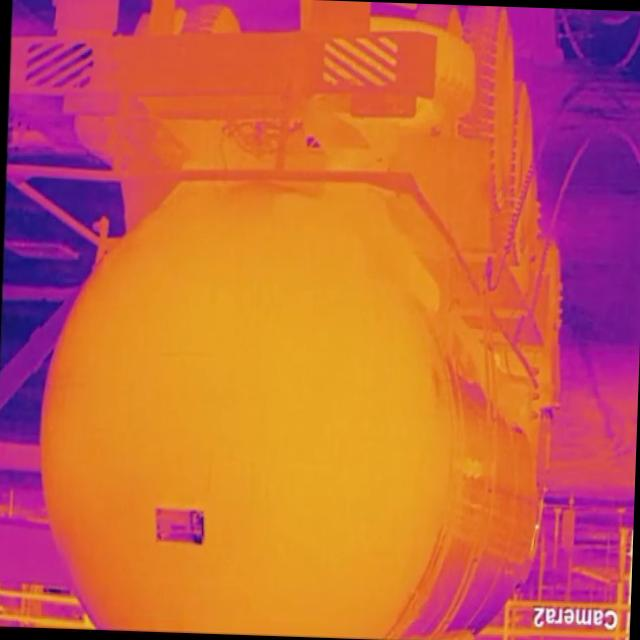tank: (33, 185, 440, 640)
